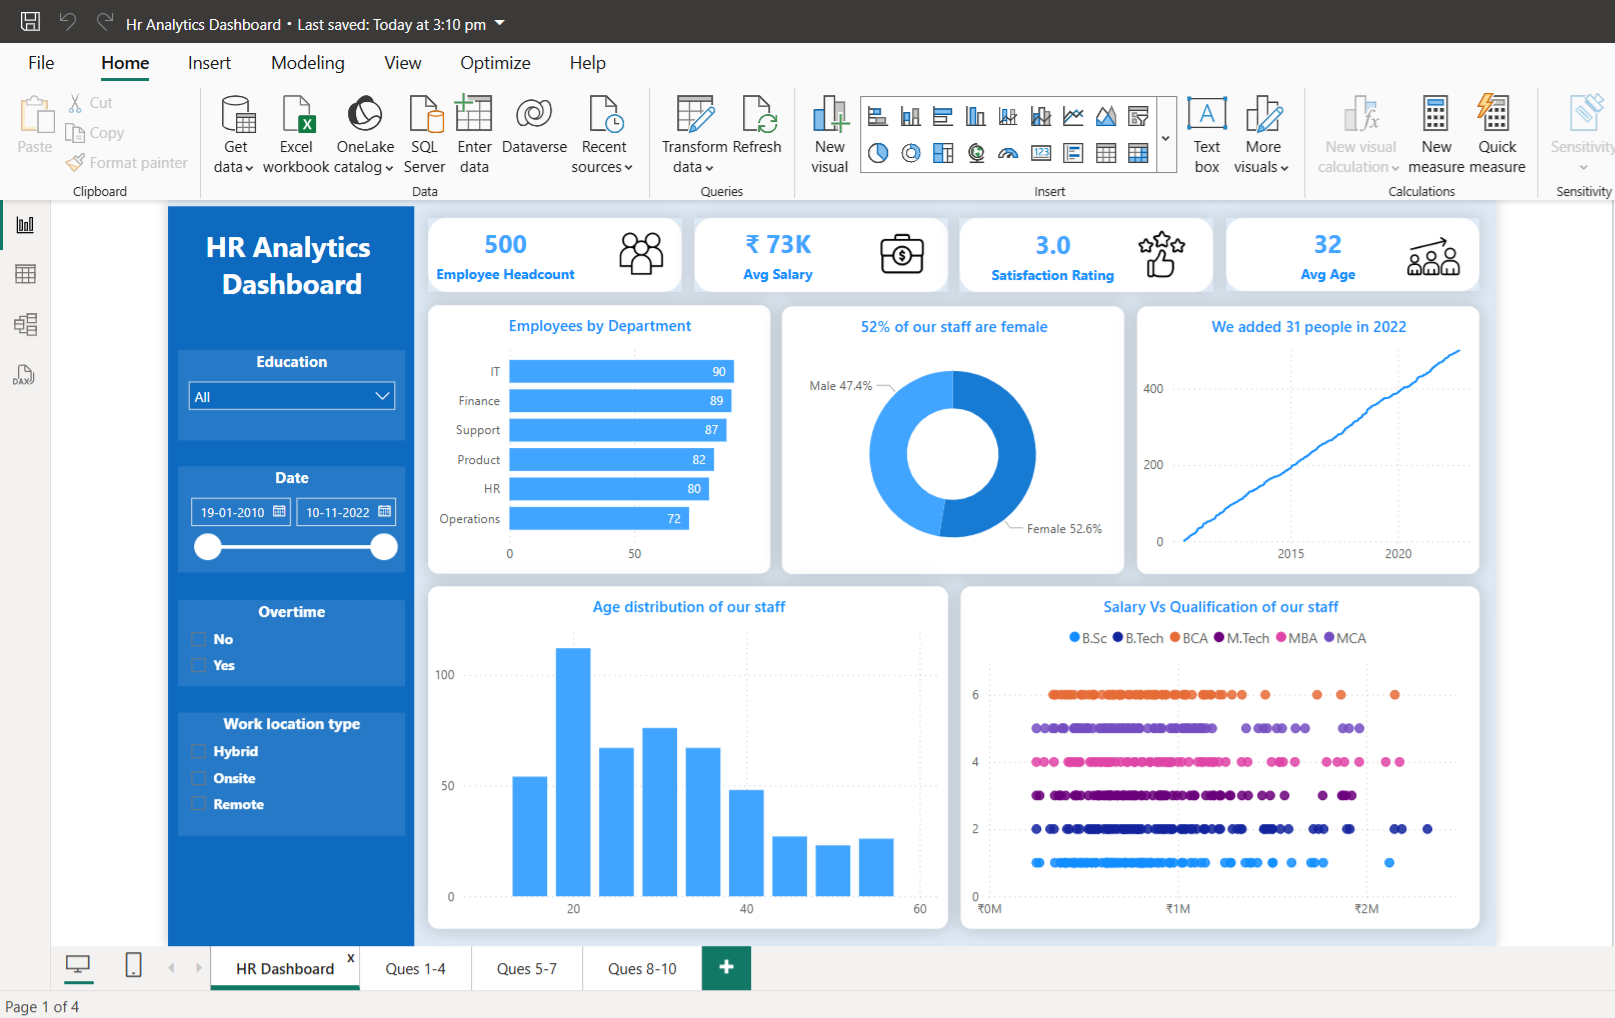

This screenshot's page, from the dashboard's own definition file:
{"tool":"powerbi","page":{"name":"HR Dashboard","canvas":[1280,720],"ordinal":0},"visuals":[{"type":"barChart","title":"Employees by Department","fields":{"Category":["HR Analytics.Department"],"Y":["CountNonNull(HR Analytics.EmployeeID)"]},"box":[250.9,101.3,330,259.4],"z":0},{"type":"donutChart","title":"52% of our staff are female","fields":{"Category":["HR Analytics.Gender"],"Y":["CountNonNull(HR Analytics.EmployeeID)"]},"box":[592.7,102.5,330.6,258.2],"z":1000},{"type":"lineChart","title":"We added 31 people in 2022","fields":{"Y":["Measure Table.Cumulative Headcount"],"Category":["HR Analytics.DateOfJoining"]},"box":[935,102.5,330.6,258.2],"z":2000},{"type":"shape","box":[251.2,16.9,245,72],"z":3000},{"type":"shape","box":[507.7,16.9,245,72],"z":4000},{"type":"shape","box":[0,6,237.7,714.2],"z":5000},{"type":"shape","box":[764.2,16.9,245,72.4],"z":6000},{"type":"shape","box":[1020.6,16.9,244.9,71.2],"z":7000},{"type":"card","fields":{"Values":["Count(HR Analytics.EmployeeID)"]},"box":[251.2,15.9,149.2,72.1],"z":8000},{"type":"card","fields":{"Values":["Measure Table.Avg. rating"]},"box":[779.2,16.3,149.2,72],"z":9000},{"type":"card","fields":{"Values":["Measure Table.Avg Age"]},"box":[1044.3,15.9,149.2,72],"z":10000},{"type":"scatterChart","title":"Salary Vs Qualification of our staff","fields":{"Series":["HR Analytics.Education"],"Y":["Educational Qualication.Ed Qual ID"],"X":["HR Analytics.AnnualSalary(LPA)"]},"box":[764.9,372.8,500.7,330.6],"z":11000},{"type":"slicer","title":"Education","fields":{"Values":["Educational Qualication.Column1"]},"box":[9.7,144.8,219.6,86.9],"z":12000},{"type":"slicer","title":"Date","fields":{"Values":["HR Analytics.DateOfJoining"]},"box":[9.7,257.4,219.6,102.5],"z":13000},{"type":"columnChart","title":"Age distribution of our staff","fields":{"Category":["HR Analytics.Age (bins)"],"Y":["CountNonNull(HR Analytics.EmployeeID)"]},"box":[250.9,372.8,501.9,330.6],"z":14000},{"type":"card","fields":{"Values":["Avg(HR Analytics.AnnualSalary(LPA))"]},"box":[513.7,15.1,149.2,72.1],"z":15000},{"type":"slicer","title":"Overtime","fields":{"Values":["HR Analytics.OverTime"]},"box":[9.7,385.7,219.6,83.2],"z":16000},{"type":"slicer","title":"Work location type","fields":{"Values":["HR Analytics.WorkLocationType"]},"box":[9.7,494.6,219.6,119.4],"z":17000},{"type":"image","box":[929,20.5,60.3,62.7],"z":18000},{"type":"image","box":[430.7,21.7,51.9,60.3],"z":19000},{"type":"image","box":[679.2,24.1,59.1,55.5],"z":20000},{"type":"textbox","box":[4.8,21.7,229.2,92.9],"z":22000},{"type":"image","box":[1189.6,24.1,63.9,60.3],"z":23000}]}

Visuals, with their boxes on the page's 1280x720 design canvas (x1, y1, x2, y2). These are canvas units, not pixel positions in the 1615x1018 screenshot, which may show the page scaled, cropped or inside an application window:
"Employees by Department" barChart: [x1=251, y1=101, x2=581, y2=361]
"52% of our staff are female" donutChart: [x1=593, y1=102, x2=923, y2=361]
"We added 31 people in 2022" lineChart: [x1=935, y1=102, x2=1266, y2=361]
shape: [x1=251, y1=17, x2=496, y2=89]
shape: [x1=508, y1=17, x2=753, y2=89]
shape: [x1=0, y1=6, x2=238, y2=720]
shape: [x1=764, y1=17, x2=1009, y2=89]
shape: [x1=1021, y1=17, x2=1266, y2=88]
card - Count(HR Analytics.EmployeeID): [x1=251, y1=16, x2=400, y2=88]
card - Measure Table.Avg. rating: [x1=779, y1=16, x2=928, y2=88]
card - Measure Table.Avg Age: [x1=1044, y1=16, x2=1194, y2=88]
"Salary Vs Qualification of our staff" scatterChart: [x1=765, y1=373, x2=1266, y2=703]
"Education" slicer: [x1=10, y1=145, x2=229, y2=232]
"Date" slicer: [x1=10, y1=257, x2=229, y2=360]
"Age distribution of our staff" columnChart: [x1=251, y1=373, x2=753, y2=703]
card - Avg(HR Analytics.AnnualSalary(LPA)): [x1=514, y1=15, x2=663, y2=87]
"Overtime" slicer: [x1=10, y1=386, x2=229, y2=469]
"Work location type" slicer: [x1=10, y1=495, x2=229, y2=614]
image: [x1=929, y1=20, x2=989, y2=83]
image: [x1=431, y1=22, x2=483, y2=82]
image: [x1=679, y1=24, x2=738, y2=80]
textbox: [x1=5, y1=22, x2=234, y2=115]
image: [x1=1190, y1=24, x2=1254, y2=84]
